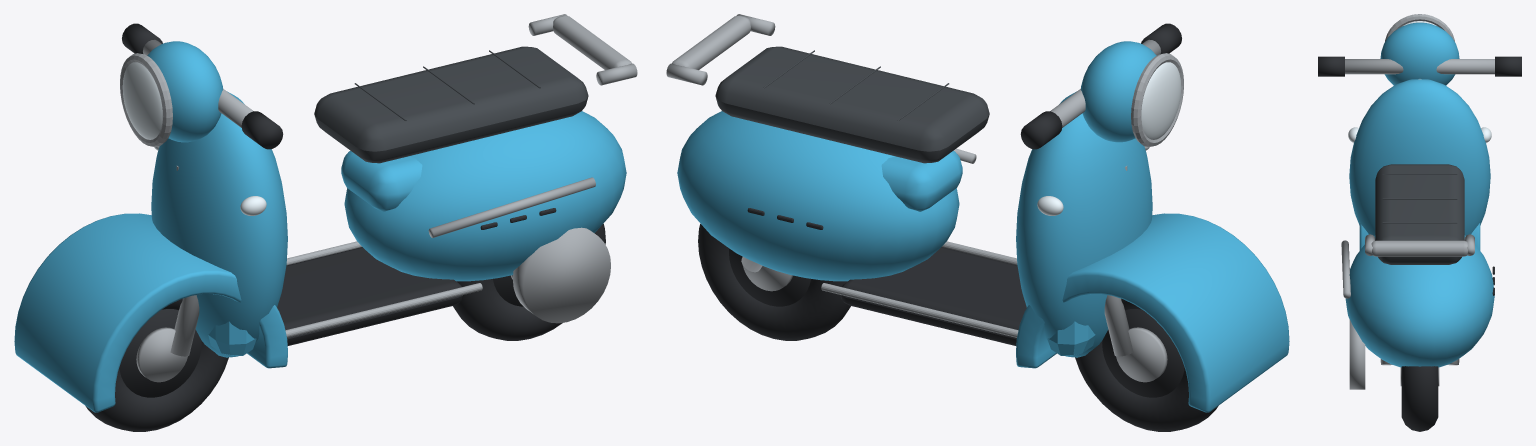
The model's file is scooter-b.glb.
The picture shows the model from 3 angles, left to right: view 1: azimuth 30°, elevation 25°; view 2: azimuth 150°, elevation 25°; view 3: azimuth 270°, elevation 25°; orthographic projection. The views are drawn at different scales.
Visible parts, largest first — view 1: Bulbous blue rear motor cowling, Blue formed-metal front mudguard, Tall iconic blue leg shield, Long two passenger saddle, Dark rubber step-through floor, Rear drive housing, Circular blue lamp pod, front rubber tire, rear rubber tire, Under-seat bridge, front black sidewall, Round transparent headlight (+11 smaller); view 2: Bulbous blue rear motor cowling, Blue formed-metal front mudguard, Tall iconic blue leg shield, Long two passenger saddle, Dark rubber step-through floor, rear rubber tire, Circular blue lamp pod, front rubber tire, Under-seat bridge, front black sidewall, Round transparent headlight, front steel hub.001 (+11 smaller); view 3: Bulbous blue rear motor cowling, Tall iconic blue leg shield, Long two passenger saddle, Circular blue lamp pod, rear rubber tire, Wide handlebars, Passenger grab rail crossbar, Rear drive housing, Black handle grip, Black handle grip.001, Chrome circular headlamp bezel, Chrome side trim (+1 smaller).
Part boxes in pixels (box(x1,y1,x2,y2)): Bulbous blue rear motor cowling: box(344, 111, 626, 281); Blue formed-metal front mudguard: box(14, 213, 287, 412); Tall iconic blue leg shield: box(151, 91, 287, 357); Long two passenger saddle: box(314, 46, 588, 163); Dark rubber step-through floor: box(277, 247, 463, 345); Rear drive housing: box(512, 227, 610, 323); Circular blue lamp pod: box(147, 41, 223, 142); front rubber tire: box(85, 298, 228, 431); rear rubber tire: box(453, 224, 605, 340); Under-seat bridge: box(341, 151, 422, 211); front black sidewall: box(119, 309, 201, 397); Round transparent headlight: box(122, 62, 162, 139); Bulbous blue rear motor cowling: box(677, 111, 959, 281); Blue formed-metal front mudguard: box(1016, 213, 1289, 412); Tall iconic blue leg shield: box(1016, 91, 1152, 357); Long two passenger saddle: box(715, 46, 989, 163); Dark rubber step-through floor: box(840, 247, 1026, 345); rear rubber tire: box(698, 224, 850, 340); Circular blue lamp pod: box(1080, 41, 1156, 142); front rubber tire: box(1075, 298, 1218, 431); Under-seat bridge: box(881, 151, 962, 211); front black sidewall: box(1102, 309, 1184, 397); Round transparent headlight: box(1141, 62, 1181, 139); front steel hub.001: box(1116, 327, 1167, 382); Bulbous blue rear motor cowling: box(1345, 235, 1494, 367); Tall iconic blue leg shield: box(1349, 79, 1490, 235); Long two passenger saddle: box(1375, 164, 1464, 264); Circular blue lamp pod: box(1380, 22, 1459, 85); rear rubber tire: box(1401, 366, 1438, 431); Wide handlebars: box(1345, 59, 1494, 74); Passenger grab rail crossbar: box(1371, 240, 1468, 256); Rear drive housing: box(1349, 319, 1365, 389); Black handle grip: box(1318, 56, 1344, 76); Black handle grip.001: box(1495, 56, 1521, 76); Chrome circular headlamp bezel: box(1385, 14, 1454, 41); Chrome side trim: box(1341, 240, 1350, 298).
Size of the model in its own units: 2.31 by 1.47 by 0.98.
